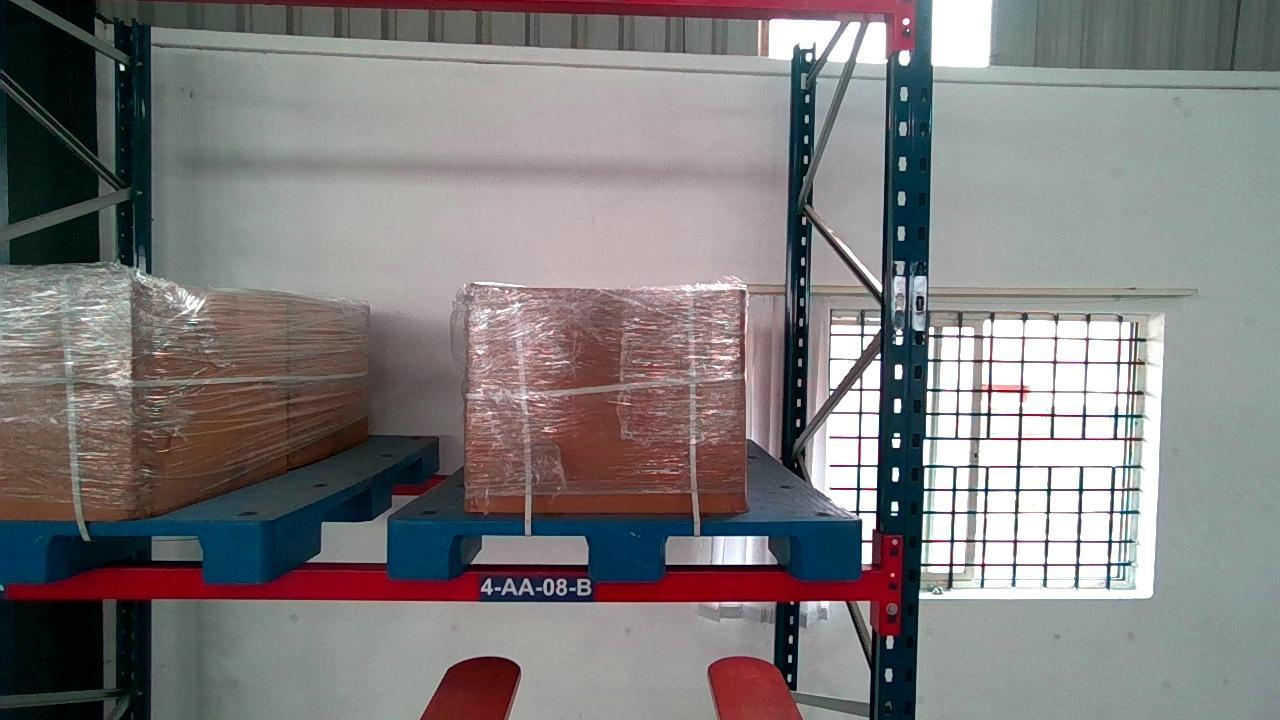h_rack: (1, 564, 881, 603)
small_pallet: (391, 515, 859, 581)
